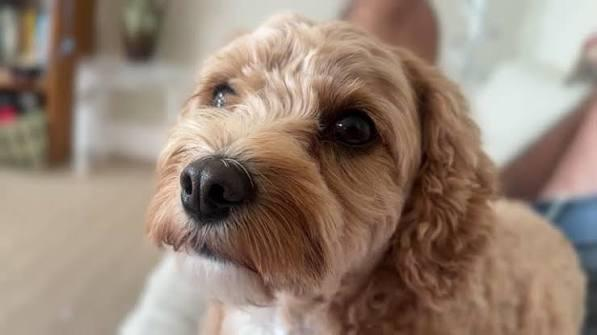adult_dog: (146, 14, 588, 335)
